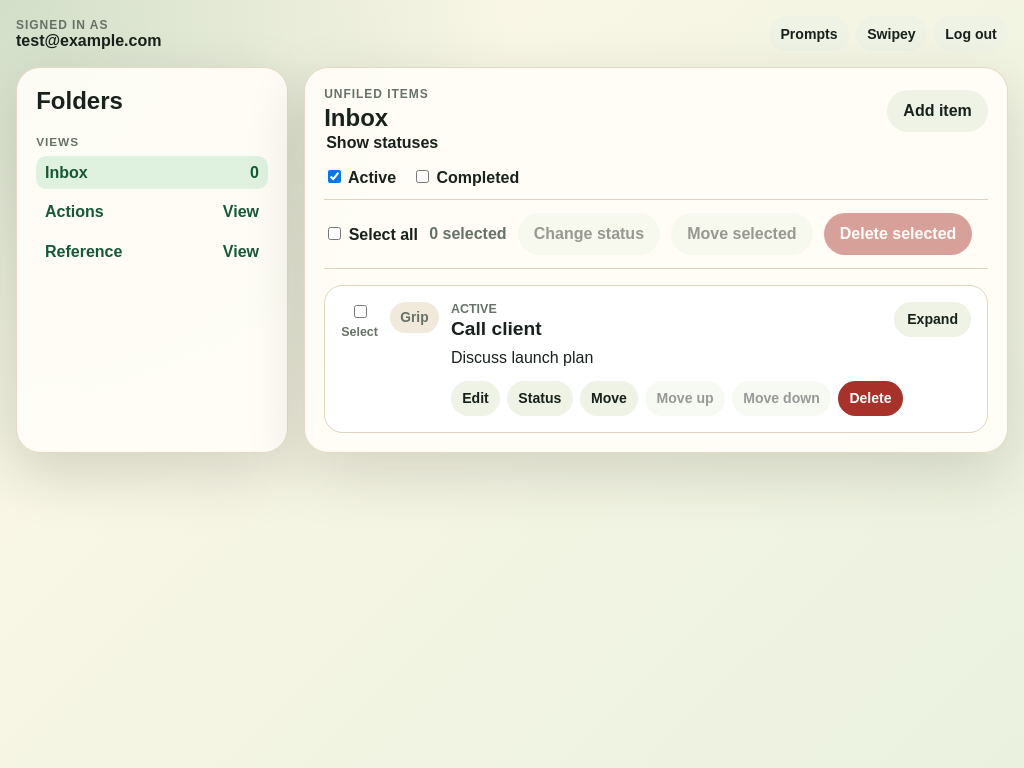
WorkspaceApp › defaults add item location to inbox when opened from inbox
Expected: the heading "Inbox" is shown, [324,104,388,131]
Click the button "Add item" at (938, 111), box [887,90,988,132]
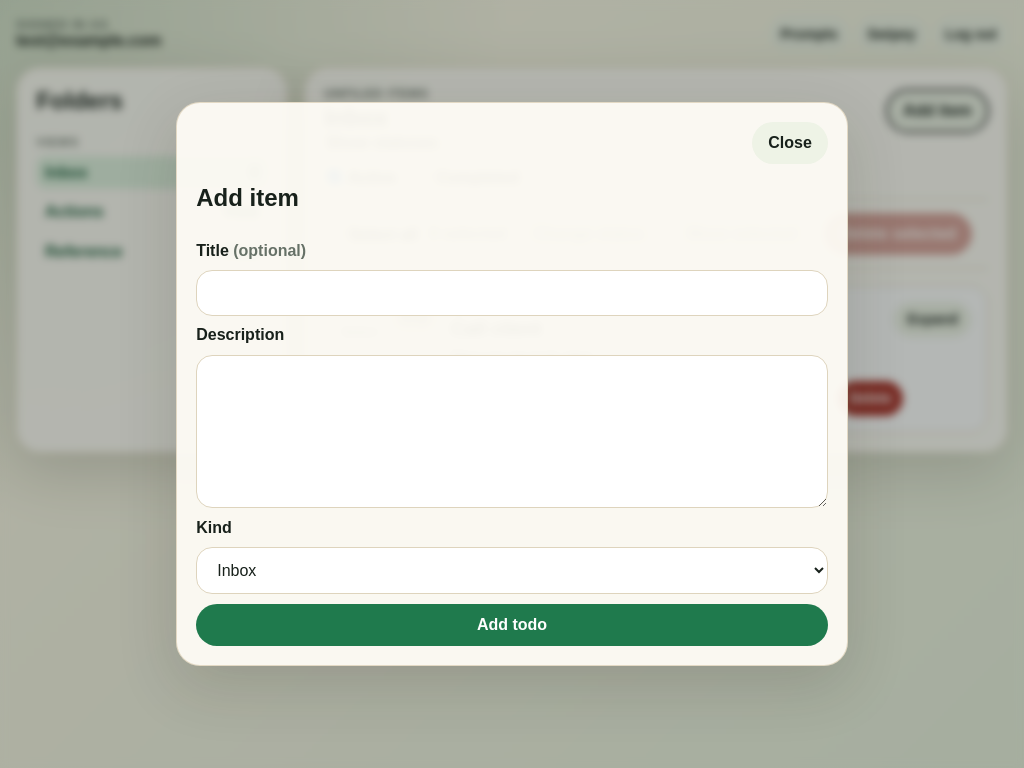
Now the dropdown labelled "Kind" shows "Inbox", box [196,547,828,594]
